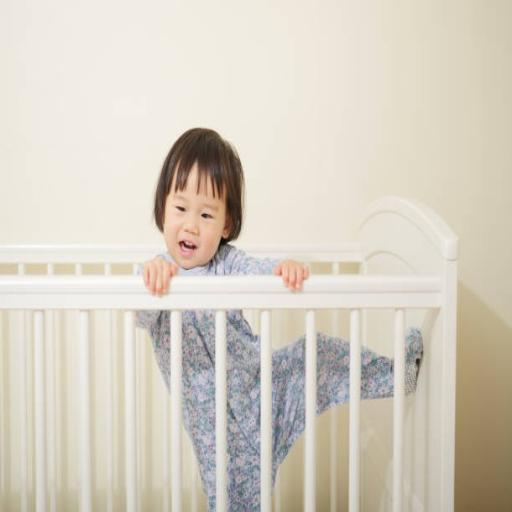baby: (143, 128, 308, 294)
crib: (0, 198, 457, 511)
